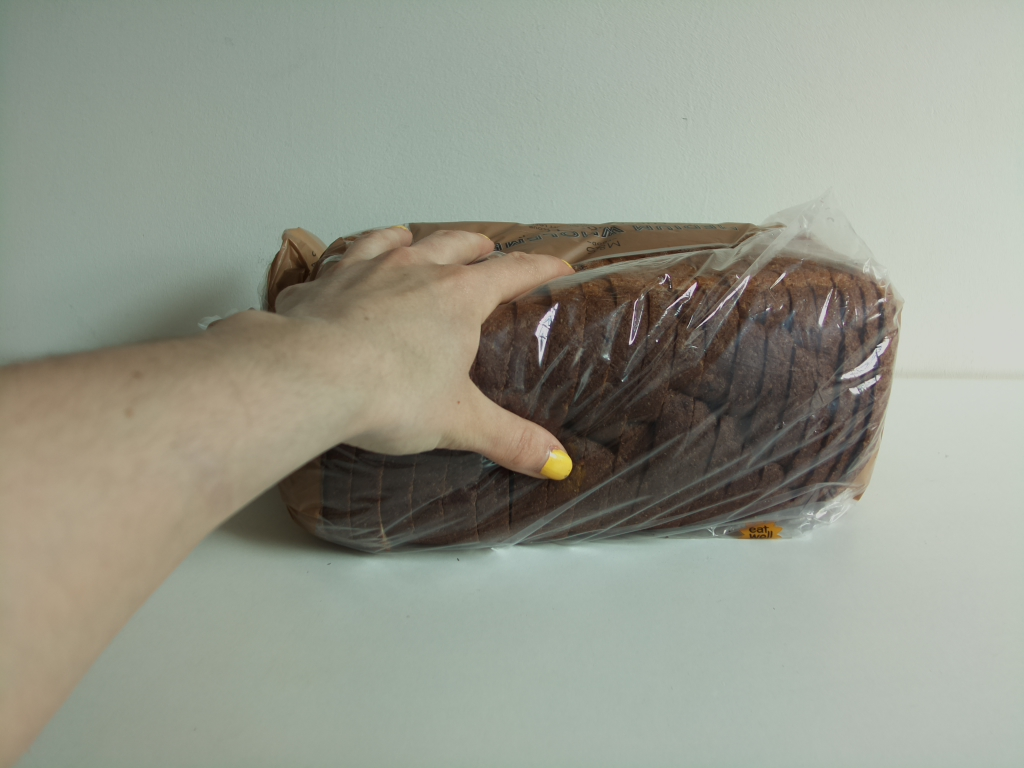bread: (198, 221, 901, 552)
